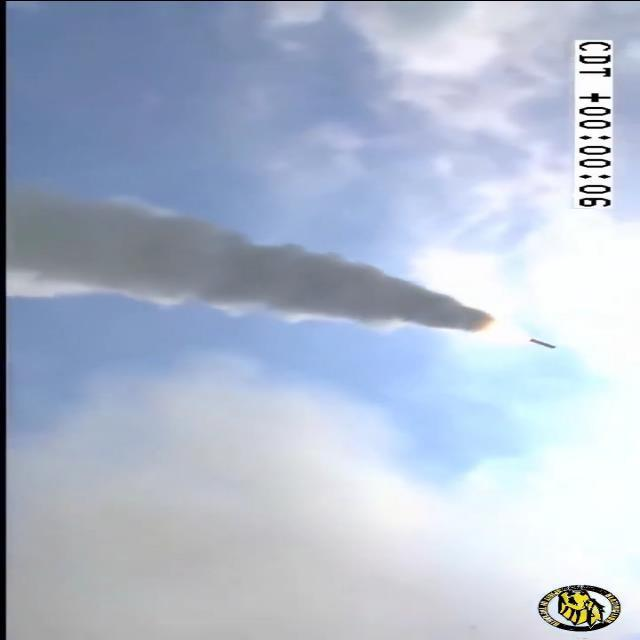Missile: (523, 332, 565, 350)
